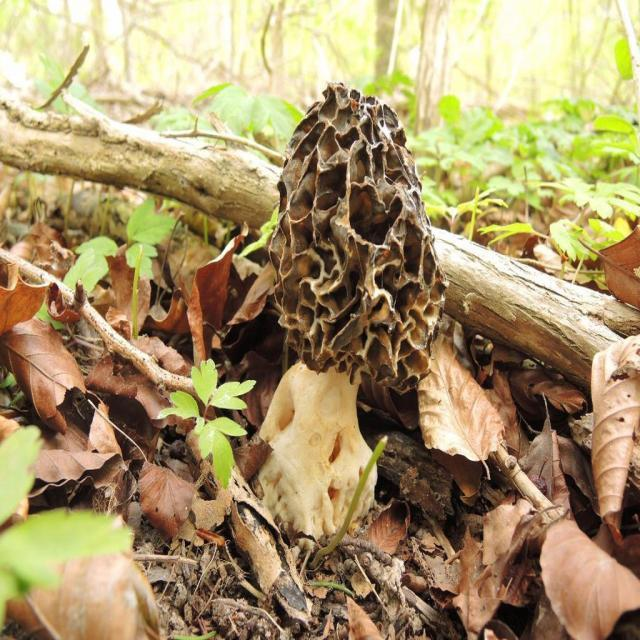Morchella esculenta: (260, 81, 444, 537)
